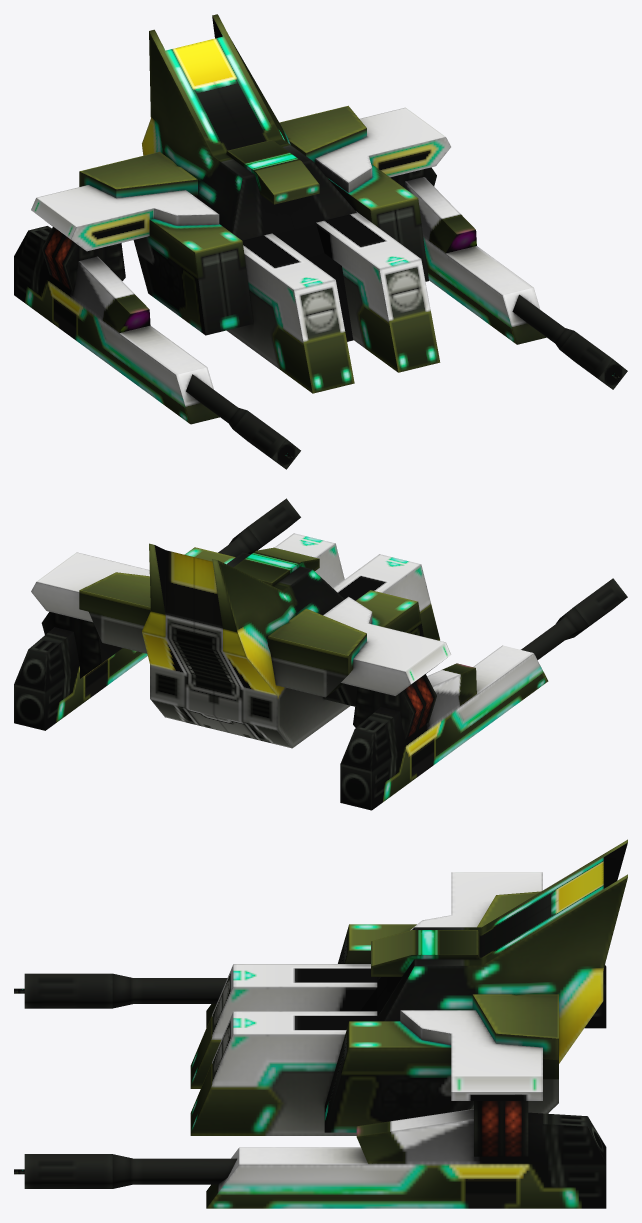
Rendered from datan_common_ss0_arm82_msg_8721b685.obj.
The picture shows the model from 3 angles, top to bottom: view 1: azimuth 30°, elevation 25°; view 2: azimuth 150°, elevation 25°; view 3: azimuth 270°, elevation 25°; orthographic projection. The views are drawn at different scales.
Parts seen in each view (by area): view 1: datan_common_ss0_arm82_msg_8721b685_mesh00, datan_common_ss0_arm82_msg_8721b685_mesh01; view 2: datan_common_ss0_arm82_msg_8721b685_mesh00, datan_common_ss0_arm82_msg_8721b685_mesh01; view 3: datan_common_ss0_arm82_msg_8721b685_mesh00, datan_common_ss0_arm82_msg_8721b685_mesh01.
Boxes of the visible parts, box(x1,y1,x2,y2) form: datan_common_ss0_arm82_msg_8721b685_mesh00: box(31, 14, 450, 393); datan_common_ss0_arm82_msg_8721b685_mesh01: box(14, 177, 627, 469); datan_common_ss0_arm82_msg_8721b685_mesh00: box(31, 533, 451, 748); datan_common_ss0_arm82_msg_8721b685_mesh01: box(14, 498, 627, 810); datan_common_ss0_arm82_msg_8721b685_mesh00: box(190, 839, 627, 1156); datan_common_ss0_arm82_msg_8721b685_mesh01: box(24, 965, 606, 1208).
Size of the model in its own units: 1.44 by 0.8025 by 1.78.
1 material, 1 textured.
